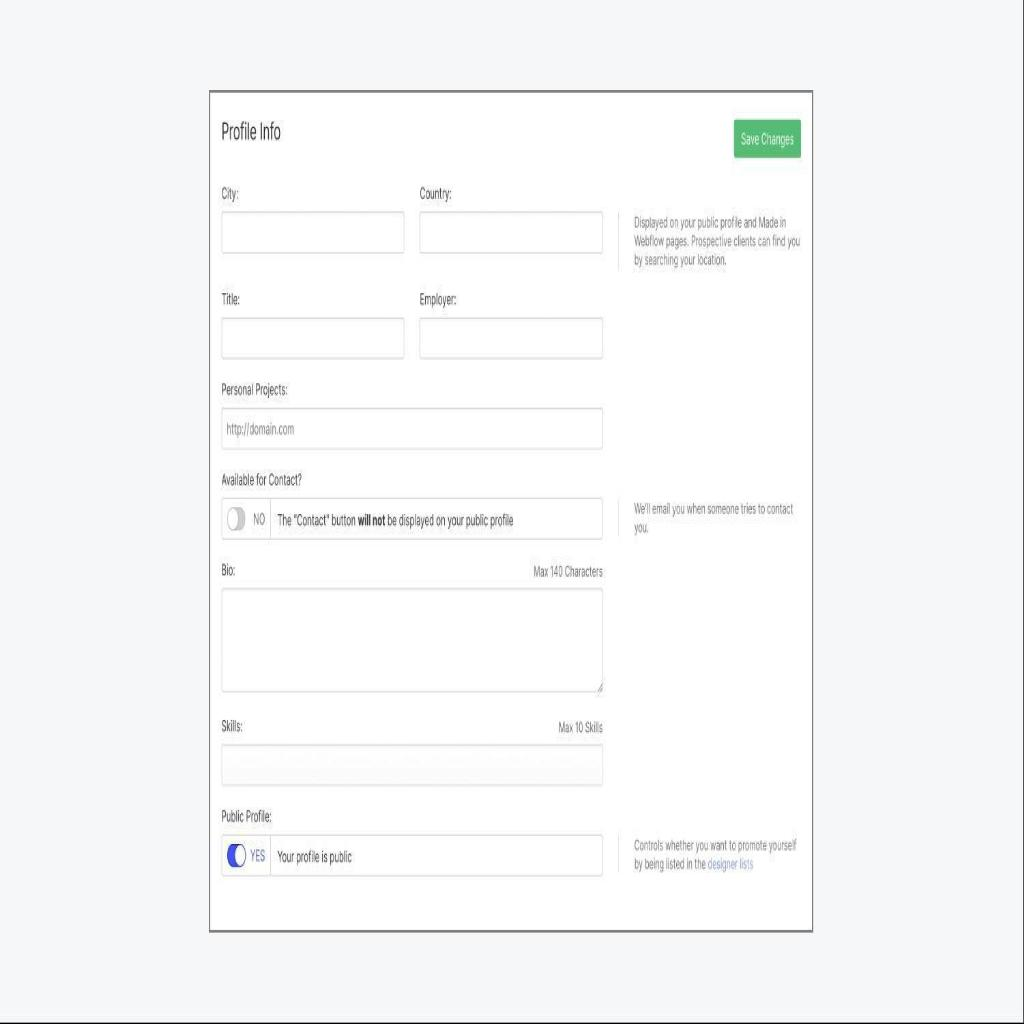button: (735, 120, 801, 160)
input: (222, 588, 602, 692), (222, 745, 604, 788), (222, 408, 604, 451), (270, 495, 602, 543), (270, 836, 603, 879), (420, 207, 603, 254), (420, 315, 602, 361), (222, 211, 406, 254), (222, 318, 404, 358)
label: (220, 469, 304, 491), (220, 379, 288, 404), (533, 559, 604, 581), (220, 804, 274, 829), (556, 714, 604, 736), (416, 289, 459, 311), (419, 182, 452, 204), (219, 716, 246, 739), (219, 181, 239, 206), (220, 288, 242, 310), (220, 559, 238, 582), (251, 508, 267, 530), (250, 843, 265, 863)
switch: (224, 502, 249, 536), (223, 841, 248, 870)
